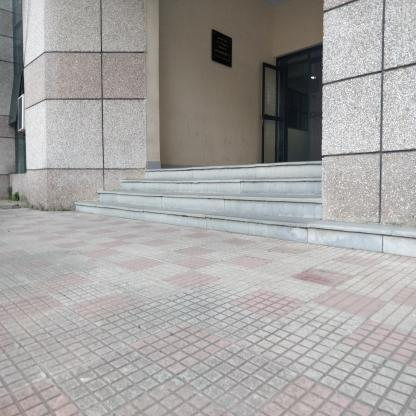stairs: (149, 171, 311, 231)
